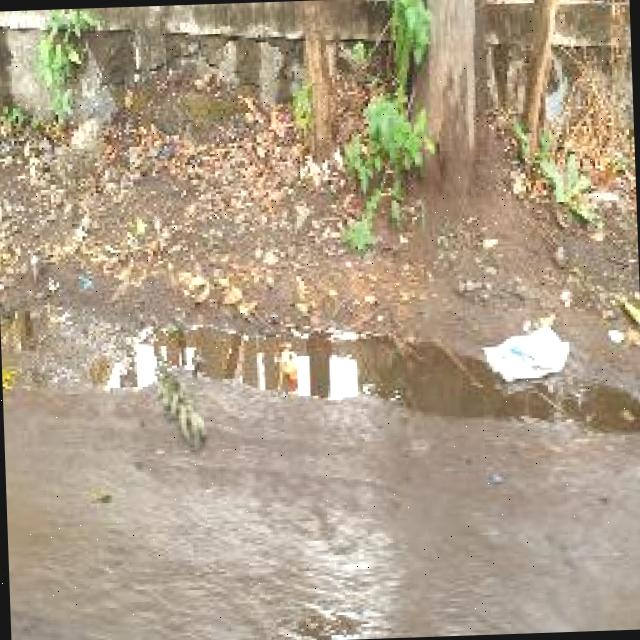stagnation: (201, 318, 640, 450)
